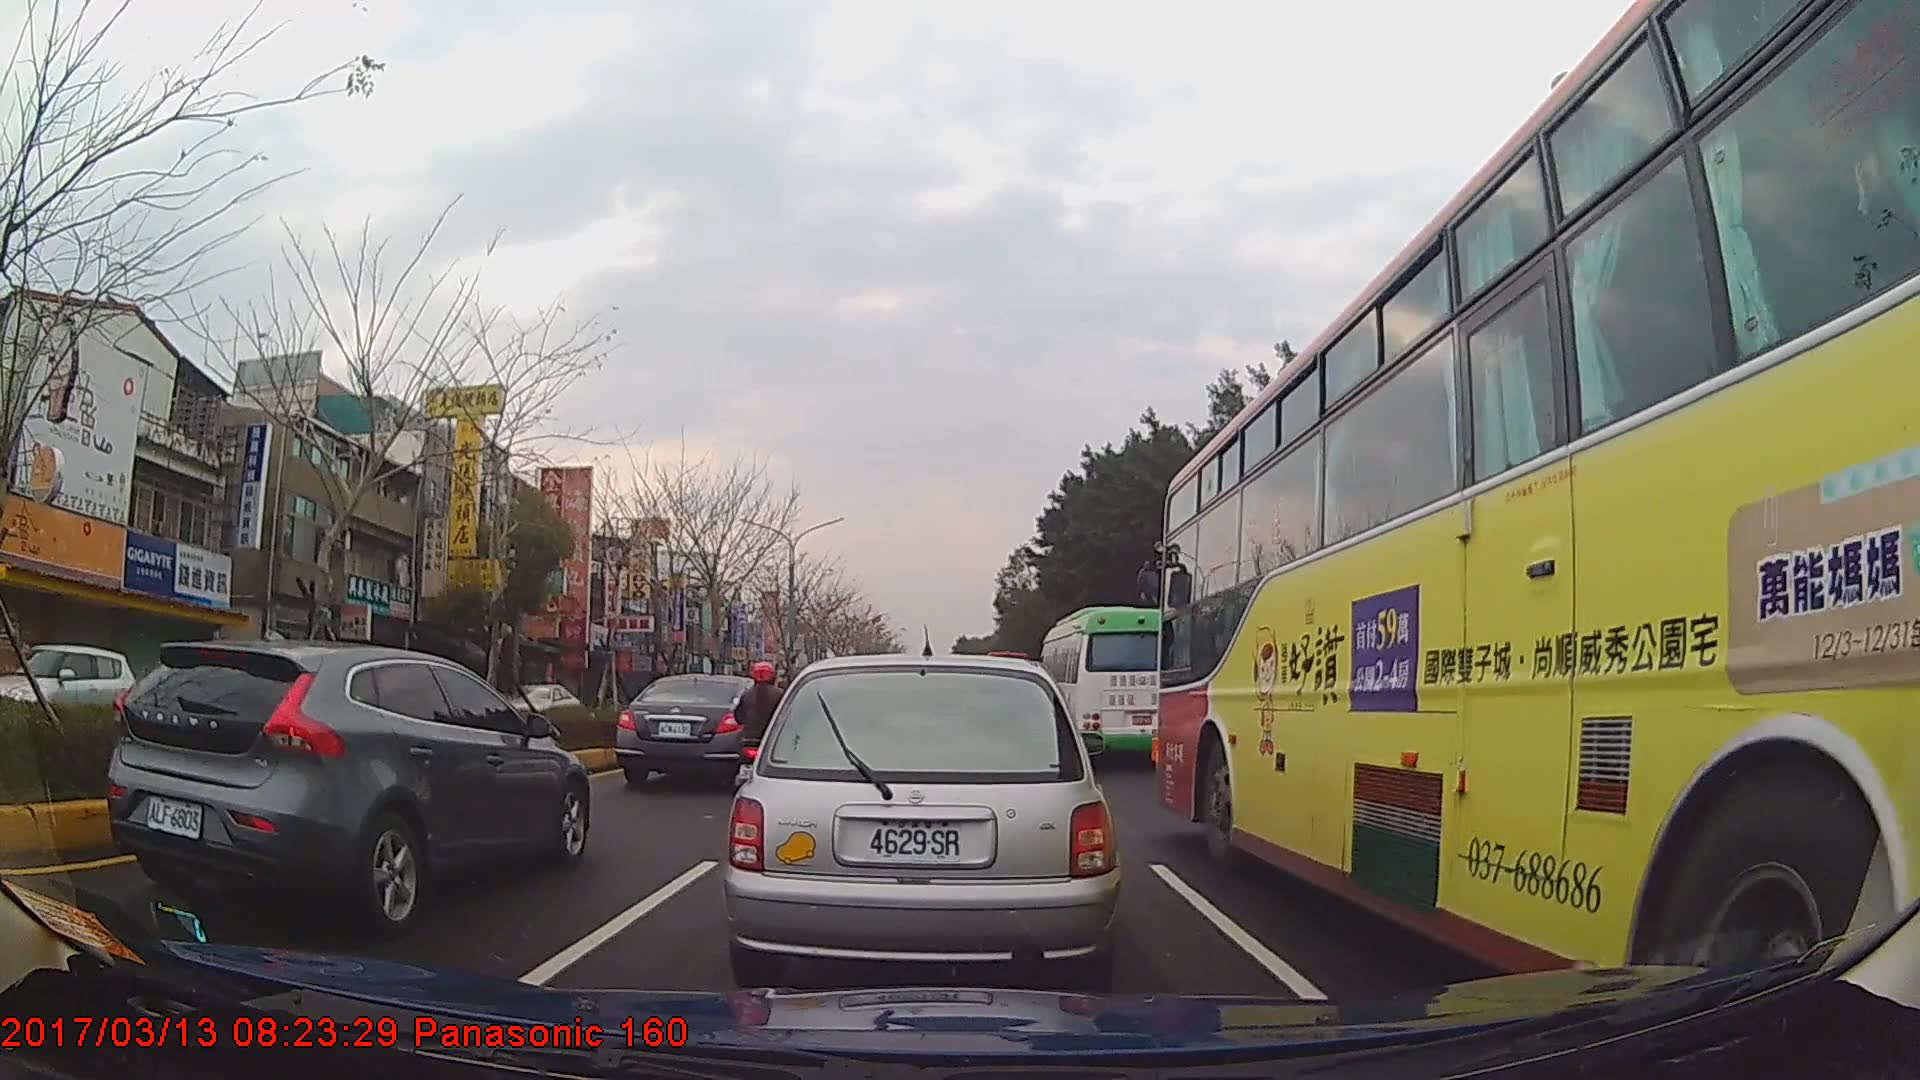rider: (734, 661, 797, 808)
vehicle: (1157, 0, 1920, 1028), (102, 636, 586, 929), (726, 650, 1119, 986), (1039, 606, 1185, 769), (615, 671, 778, 790), (0, 642, 137, 749), (498, 681, 580, 728)
